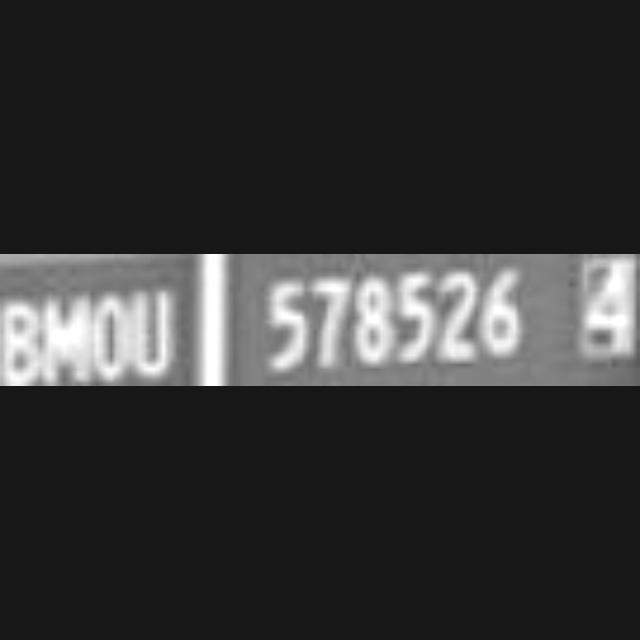2: (436, 261, 482, 369)
4: (576, 266, 640, 354)
5: (262, 276, 310, 378), (393, 267, 435, 377)
6: (478, 262, 526, 361)
7: (312, 274, 354, 372)
8: (354, 270, 394, 370)
b: (0, 292, 38, 386)
m: (42, 292, 92, 386)
o: (94, 288, 128, 387)
u: (132, 286, 176, 386)
